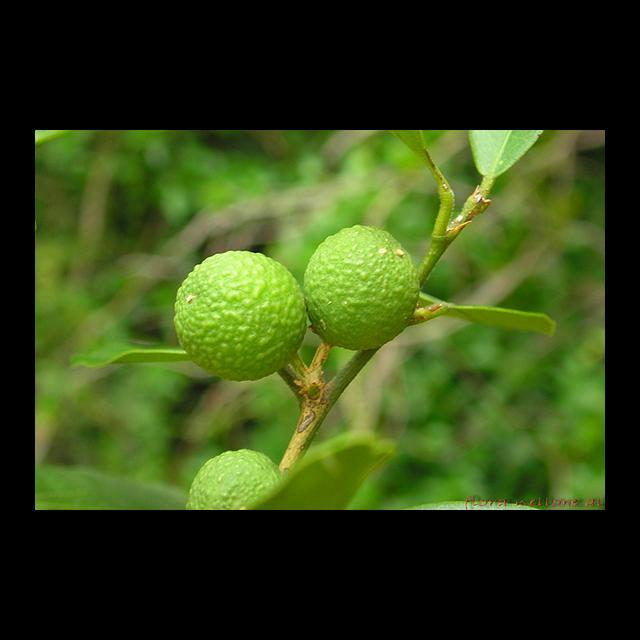lime: (165, 246, 303, 385), (300, 213, 422, 354), (175, 443, 288, 510)
